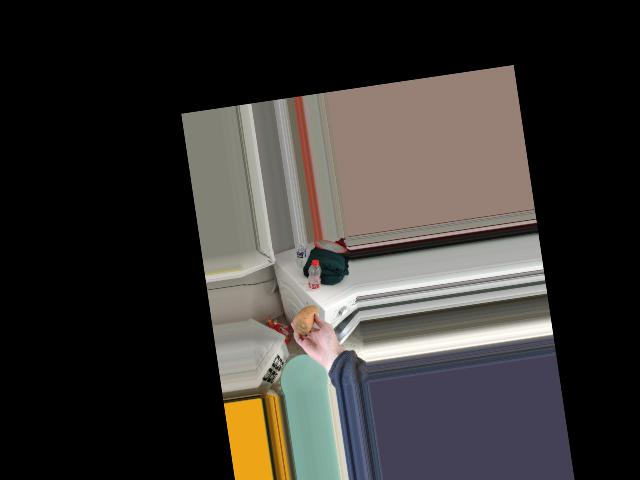sweet_potato: (293, 303, 325, 339)
